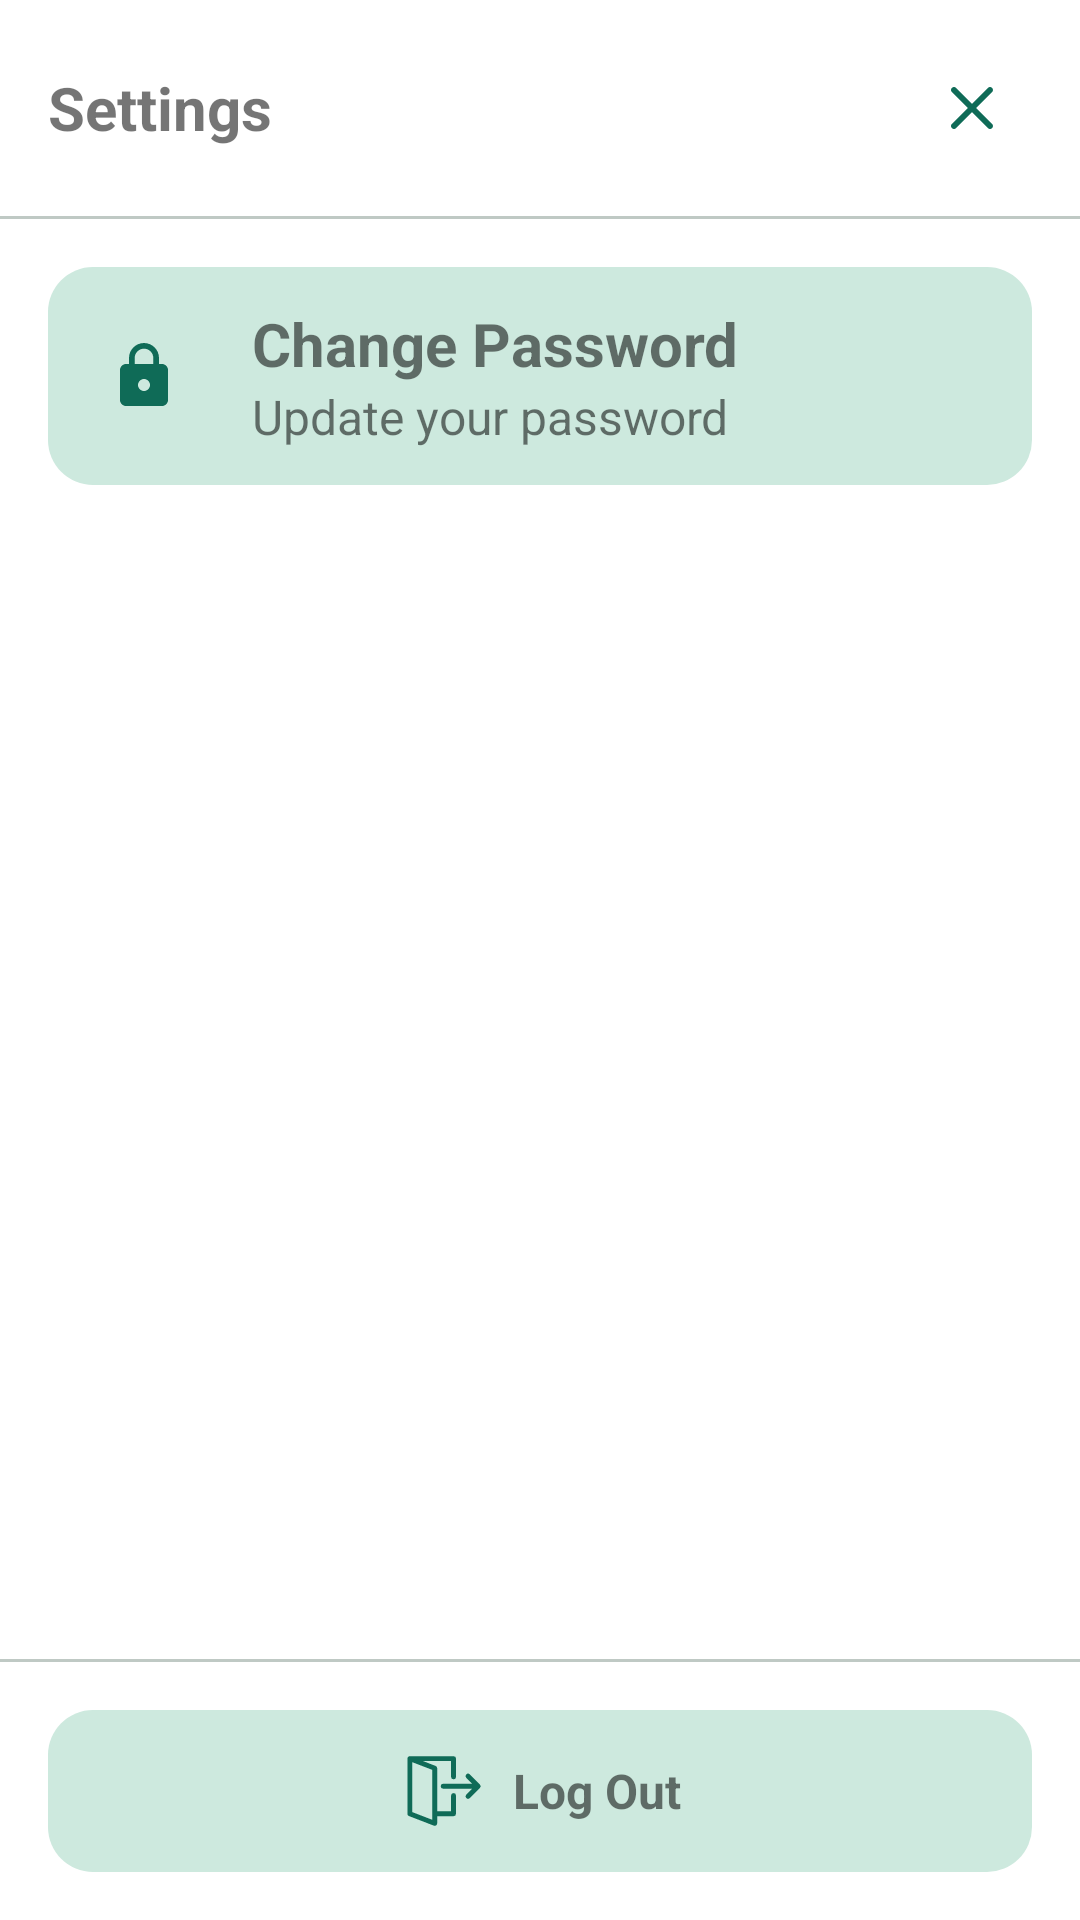

Point at icon controls on the screen. Image size 1080*1920, points as [x,y].
Close image: [972,108]
lock: [144,374]
